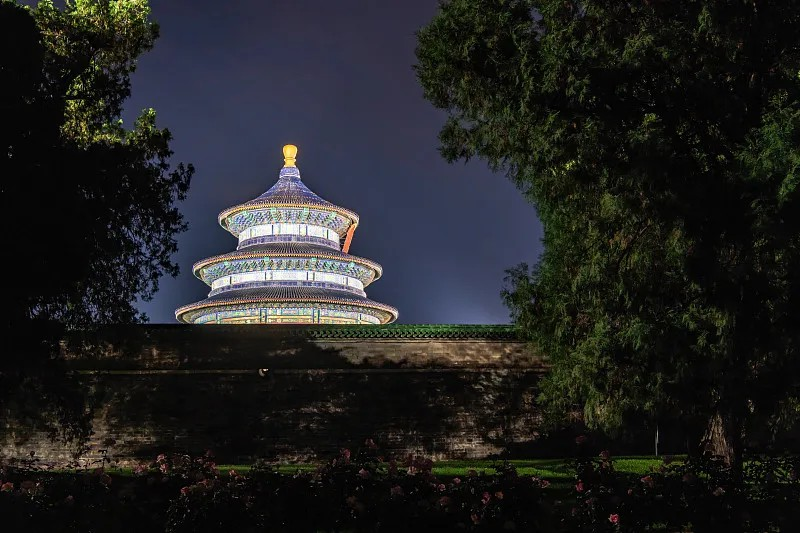Heaven: (174, 145, 399, 325)
